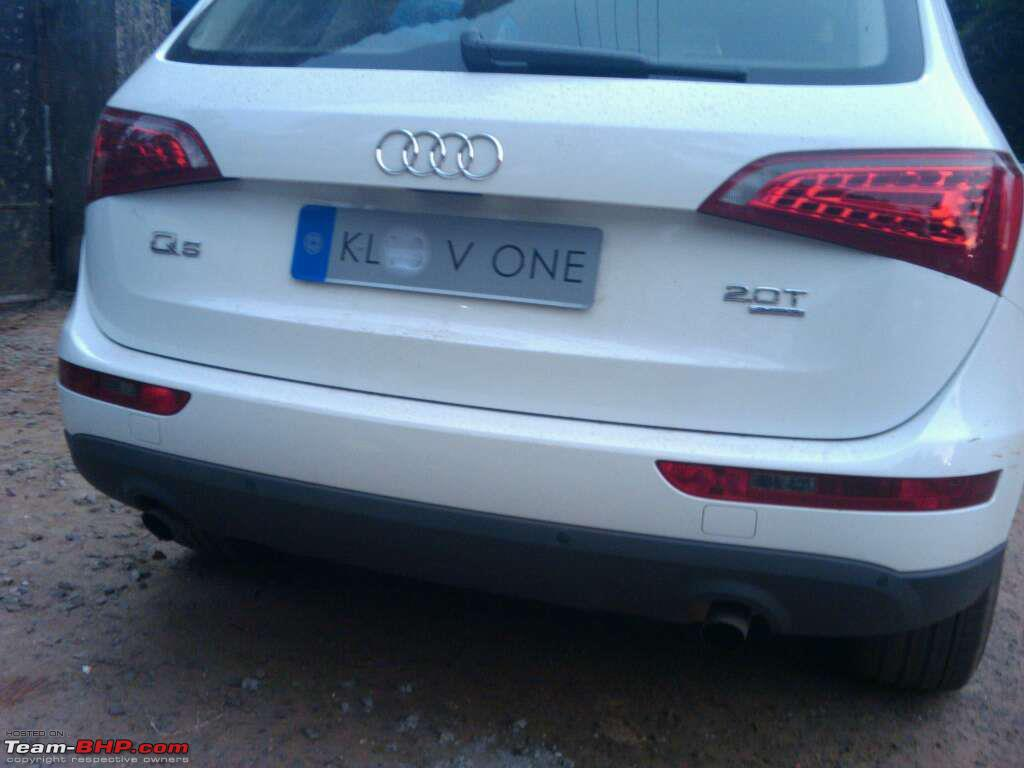number_plate: (297, 194, 616, 332)
